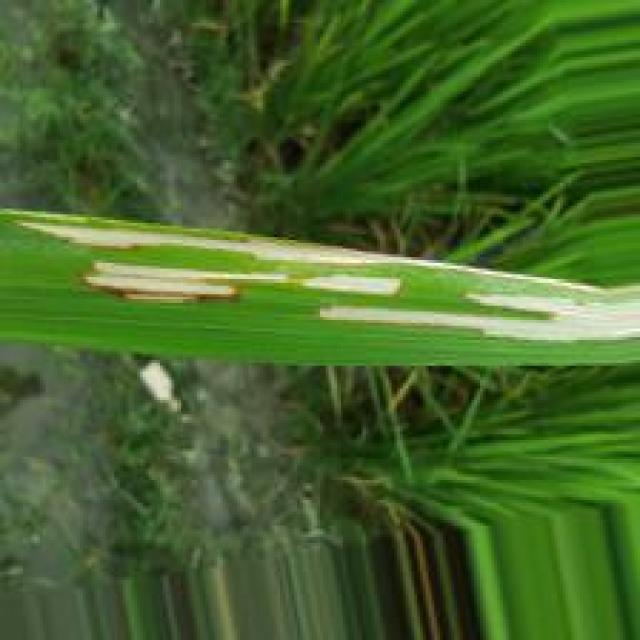Rice_Hispa: (321, 289, 640, 347), (16, 223, 415, 268), (84, 260, 403, 307)
